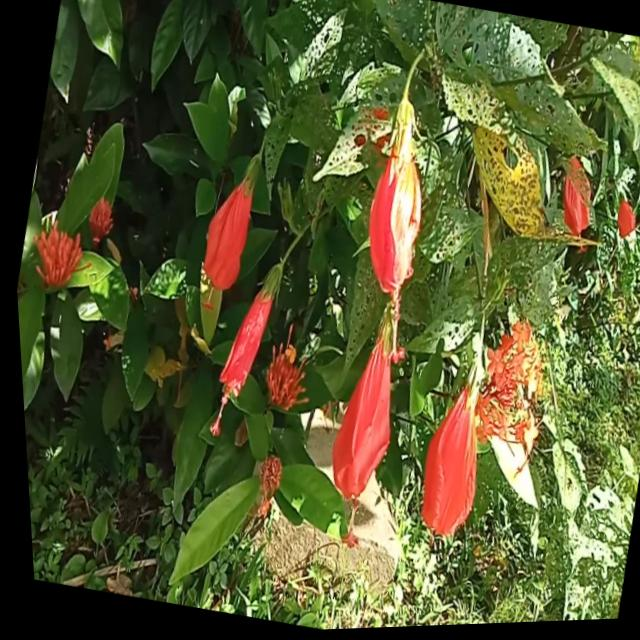Flower: (328, 95, 461, 371), (301, 305, 419, 556), (393, 347, 500, 567), (188, 250, 294, 455), (180, 143, 271, 323), (543, 153, 603, 257), (606, 192, 640, 248)
